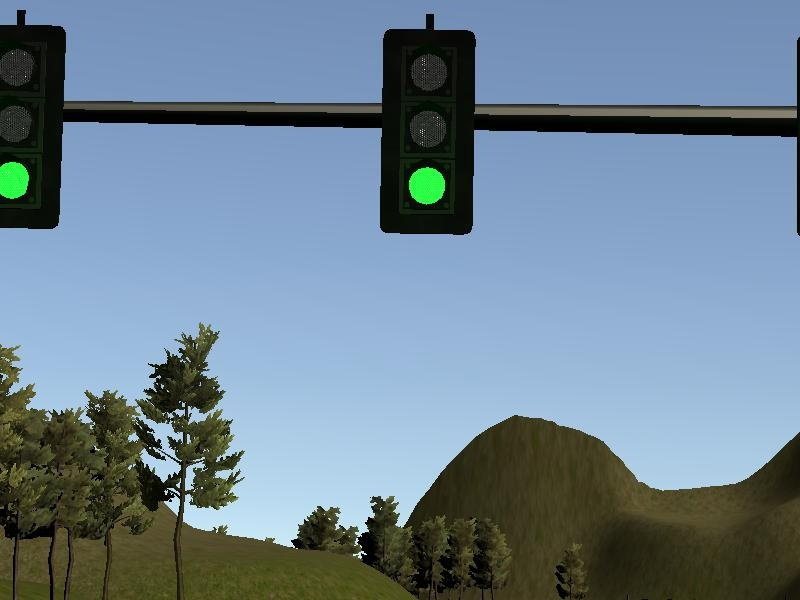traffic_light_green: (1, 4, 800, 241)
